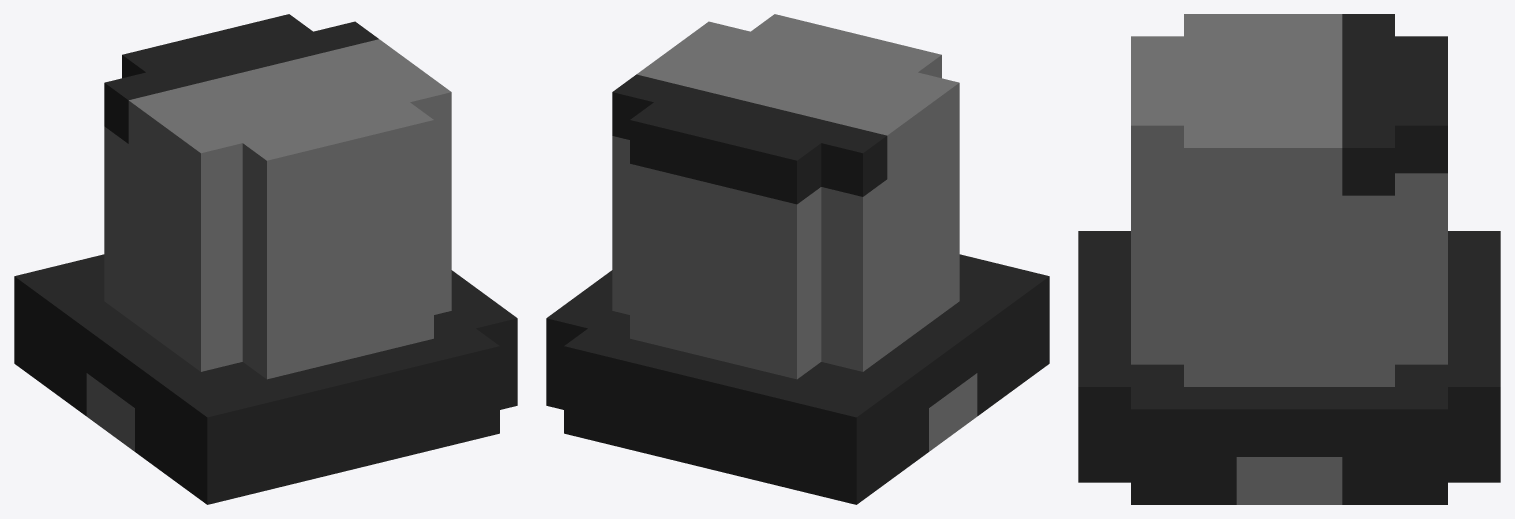
Rendered from capacitorVoxel.obj.
3 renders of one model, left to right at view 1: azimuth 30°, elevation 25°; view 2: azimuth 150°, elevation 25°; view 3: azimuth 270°, elevation 25°, orthographic. The views are drawn at different scales.
Size of the model in its own units: 0.8 by 0.7 by 0.8.
Materials: 1 (1 with a texture image).
